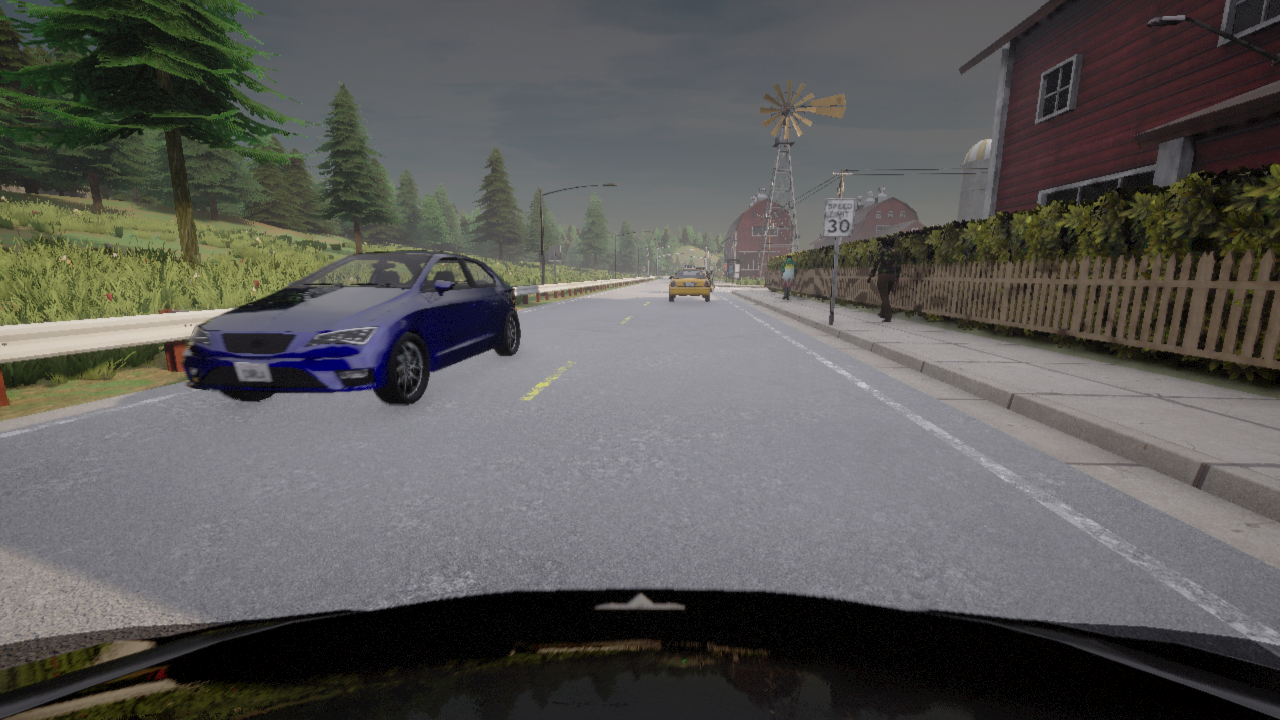cyclist: (0, 588, 1279, 719), (180, 251, 520, 405), (669, 266, 710, 301), (696, 267, 714, 291)
pedestrian: (867, 236, 900, 322), (781, 255, 797, 299)
